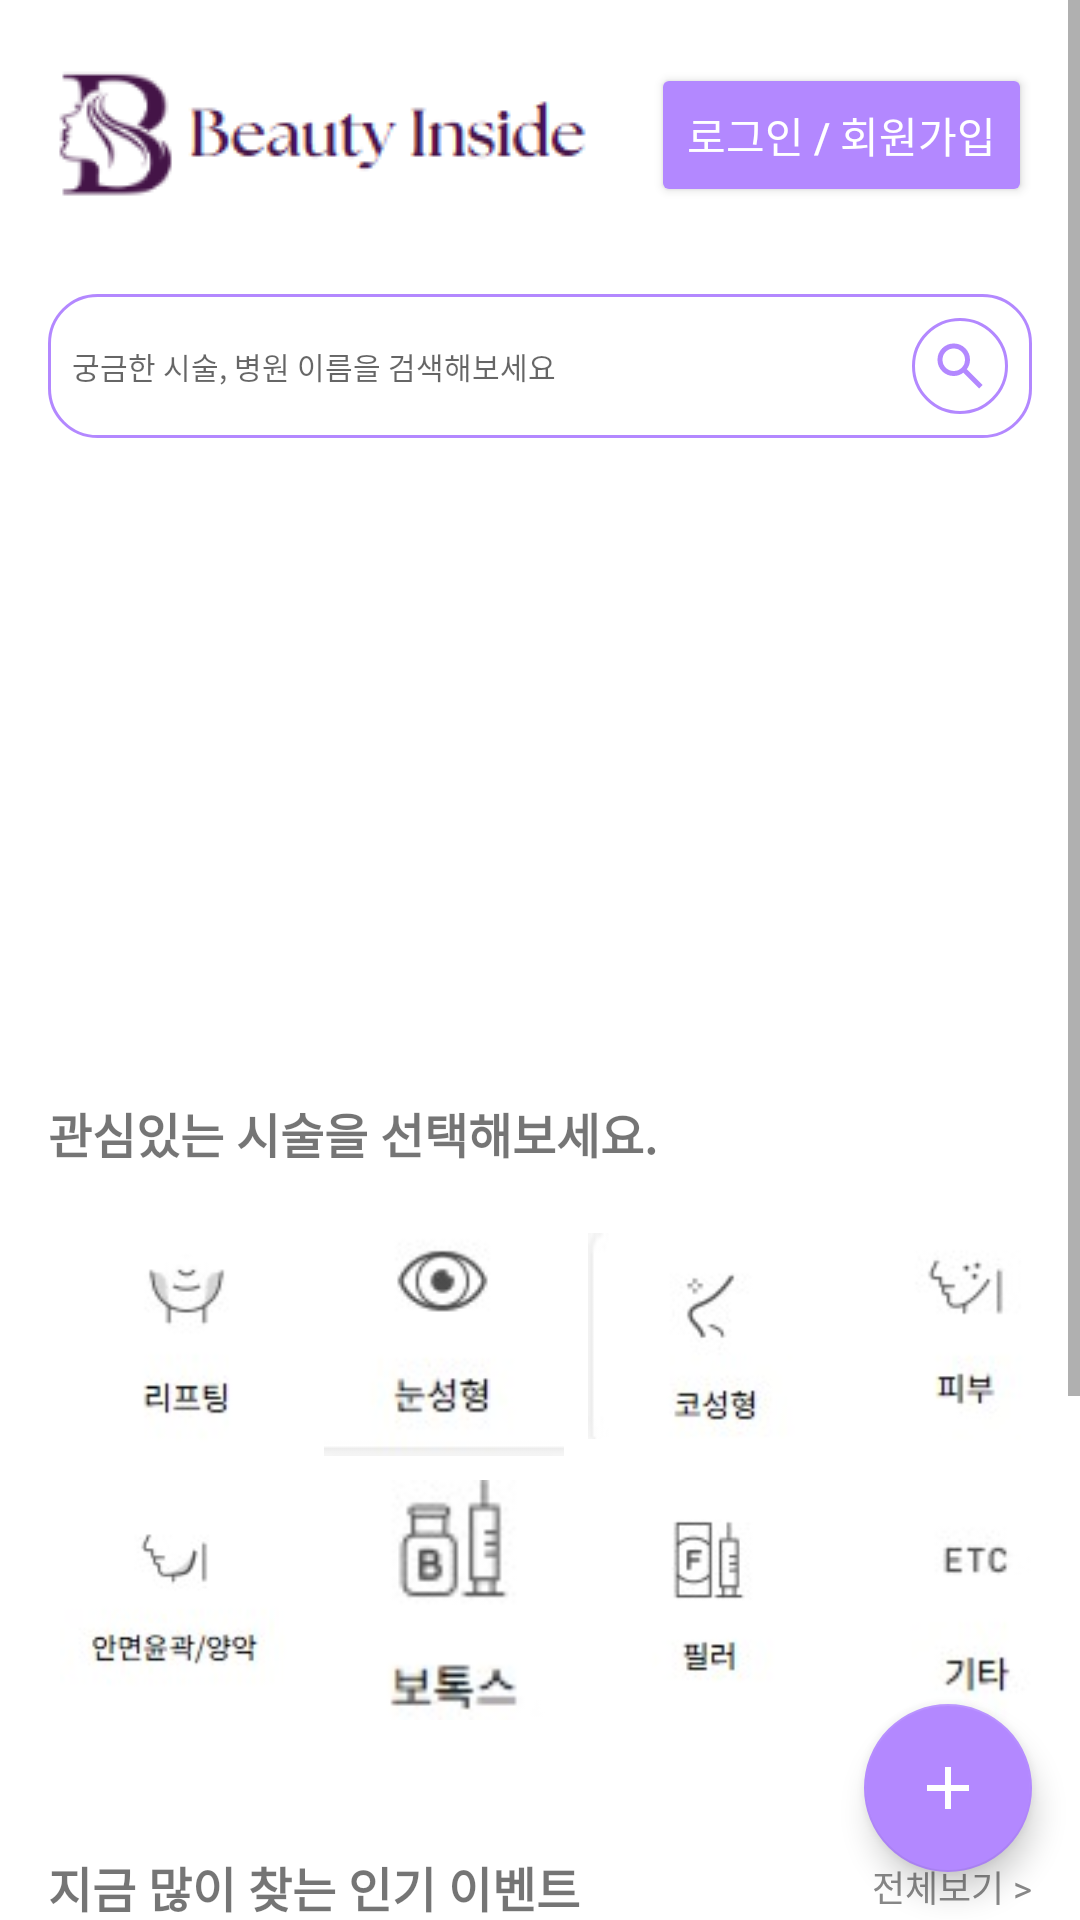

Screen size 1080x1920. Icon name, then its box in pixels as Rect(x1, y1, x2, y2):
이미지 추가: Rect(864, 1704, 1032, 1872)
